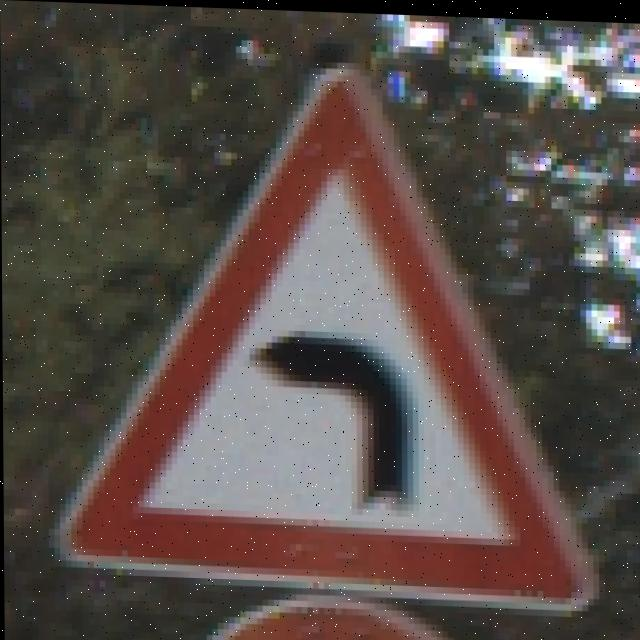left_turn: (98, 92, 567, 613)
